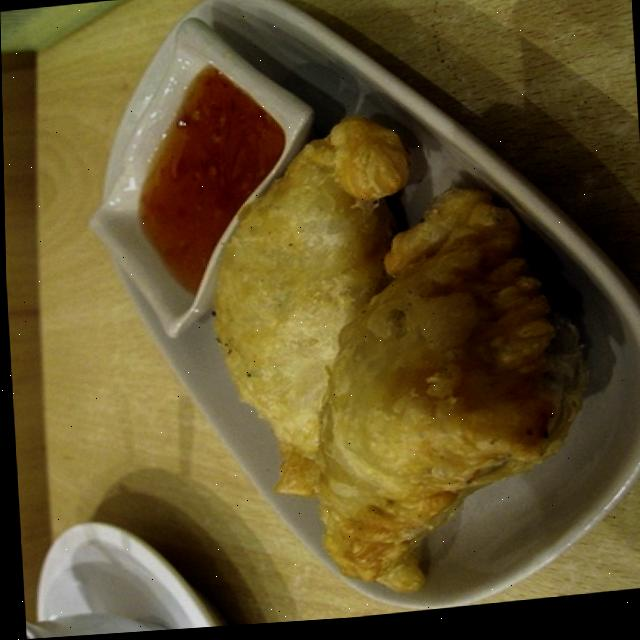炸货点心: (68, 7, 640, 625)
